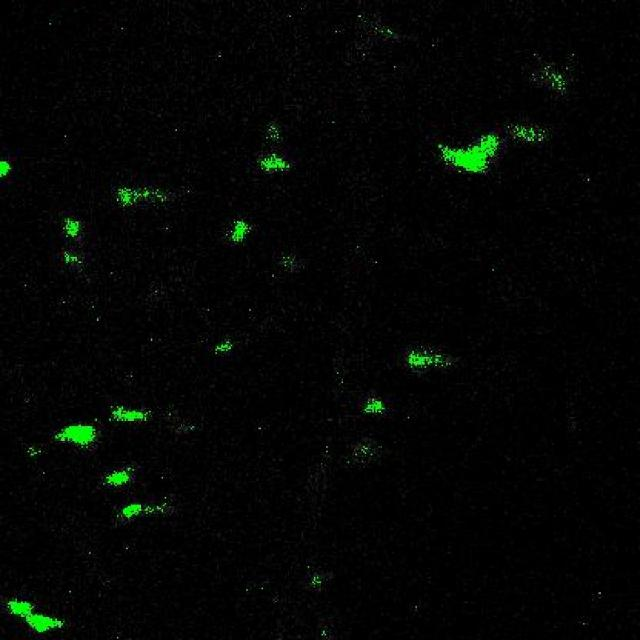Cell: (440, 138, 502, 169), (9, 601, 60, 633), (58, 426, 100, 448), (405, 352, 459, 369), (113, 407, 148, 423), (261, 157, 293, 174), (230, 220, 251, 245), (121, 504, 146, 520), (107, 471, 129, 486), (64, 218, 80, 237), (0, 162, 11, 178)
